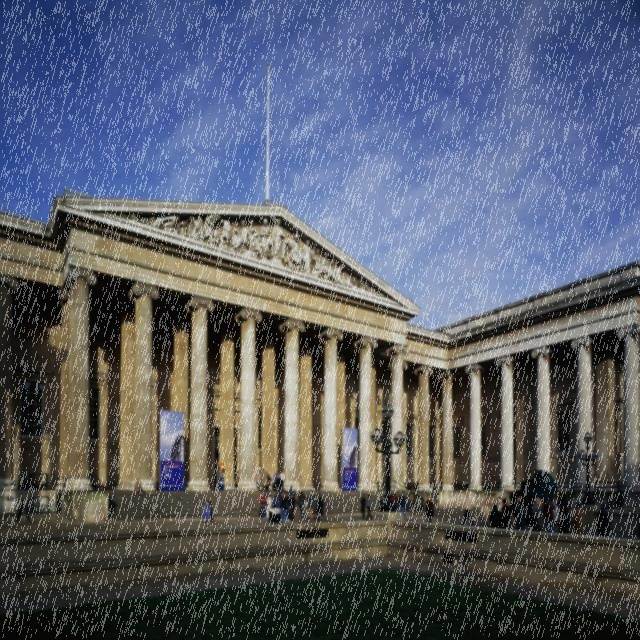pessoa: (150, 213, 378, 294), (556, 488, 626, 537), (478, 496, 502, 529), (379, 490, 401, 512), (460, 492, 474, 526), (531, 496, 544, 532), (513, 498, 527, 530), (542, 498, 554, 532), (500, 498, 511, 530), (279, 492, 290, 522), (424, 496, 434, 526), (512, 496, 522, 526), (398, 489, 408, 518), (551, 496, 560, 528), (364, 493, 374, 521), (315, 492, 324, 522), (288, 492, 296, 523), (306, 490, 314, 520), (258, 492, 266, 520), (133, 478, 145, 496), (272, 494, 280, 520), (359, 492, 366, 520), (260, 468, 268, 491), (274, 474, 282, 497), (297, 491, 305, 514), (265, 494, 272, 520), (254, 469, 262, 491), (214, 471, 223, 489), (312, 494, 318, 520), (265, 470, 272, 492), (274, 471, 280, 492), (280, 470, 286, 490), (234, 468, 240, 488), (288, 484, 296, 498), (538, 500, 544, 512), (277, 486, 282, 500), (279, 484, 286, 494), (264, 488, 270, 498), (279, 492, 282, 504), (284, 491, 289, 496), (529, 524, 533, 530), (281, 463, 284, 470), (312, 508, 314, 517), (312, 492, 314, 494)
